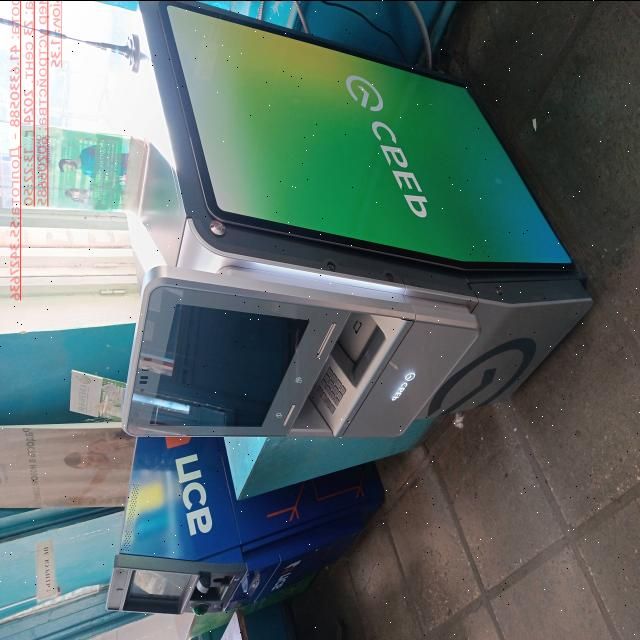bank: (124, 0, 593, 433)
